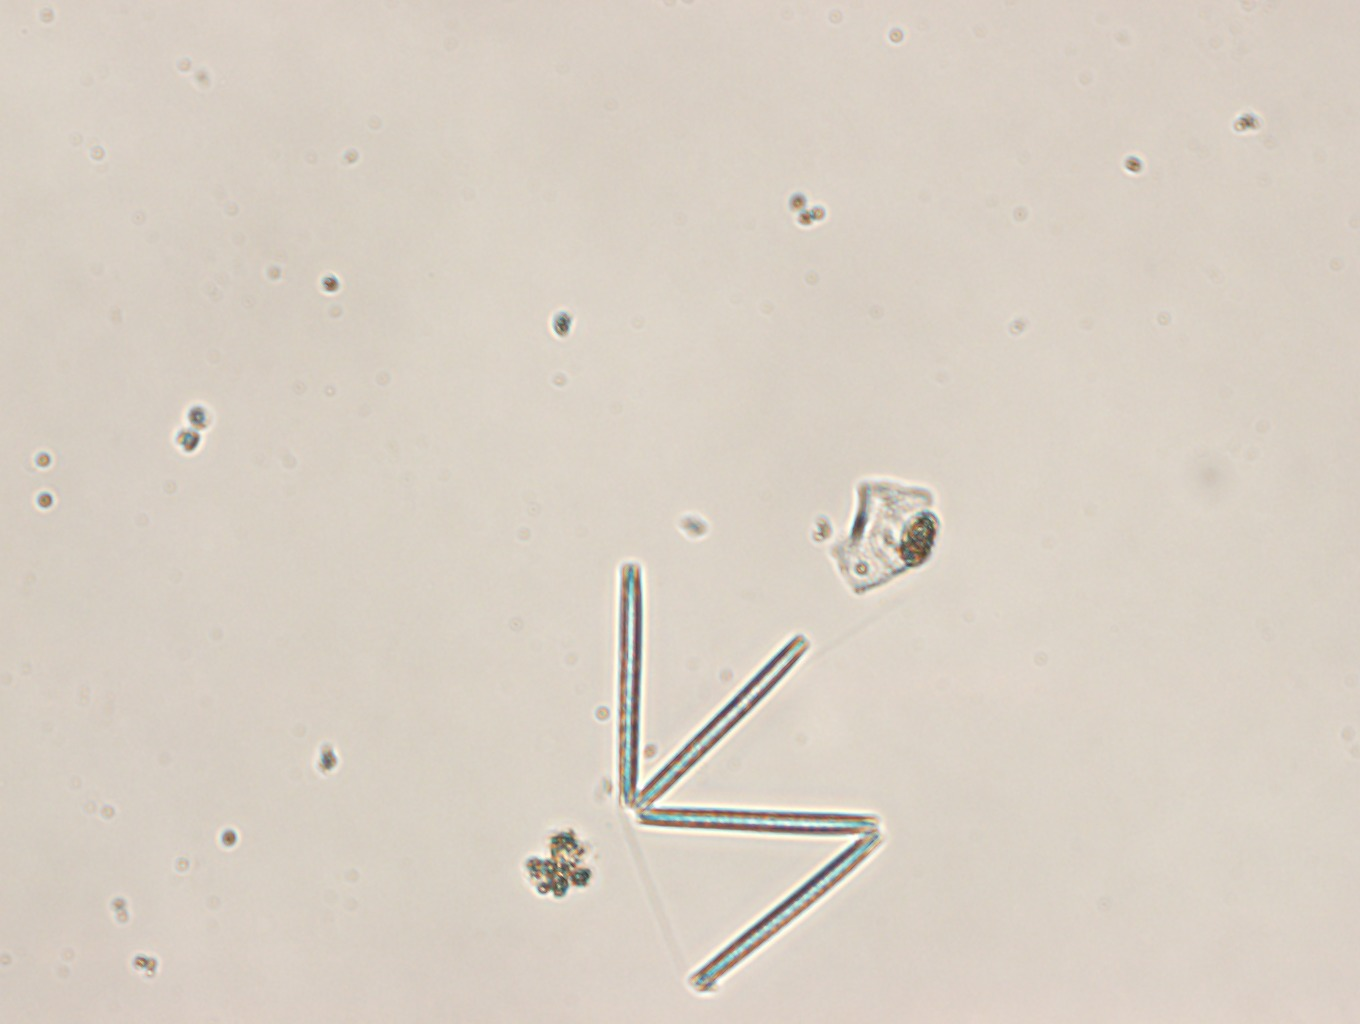thalassionema nitzschioides: (614, 561, 881, 997)
